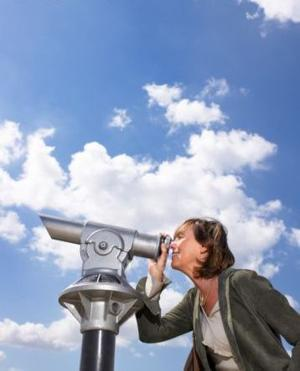person: (137, 216, 300, 370)
